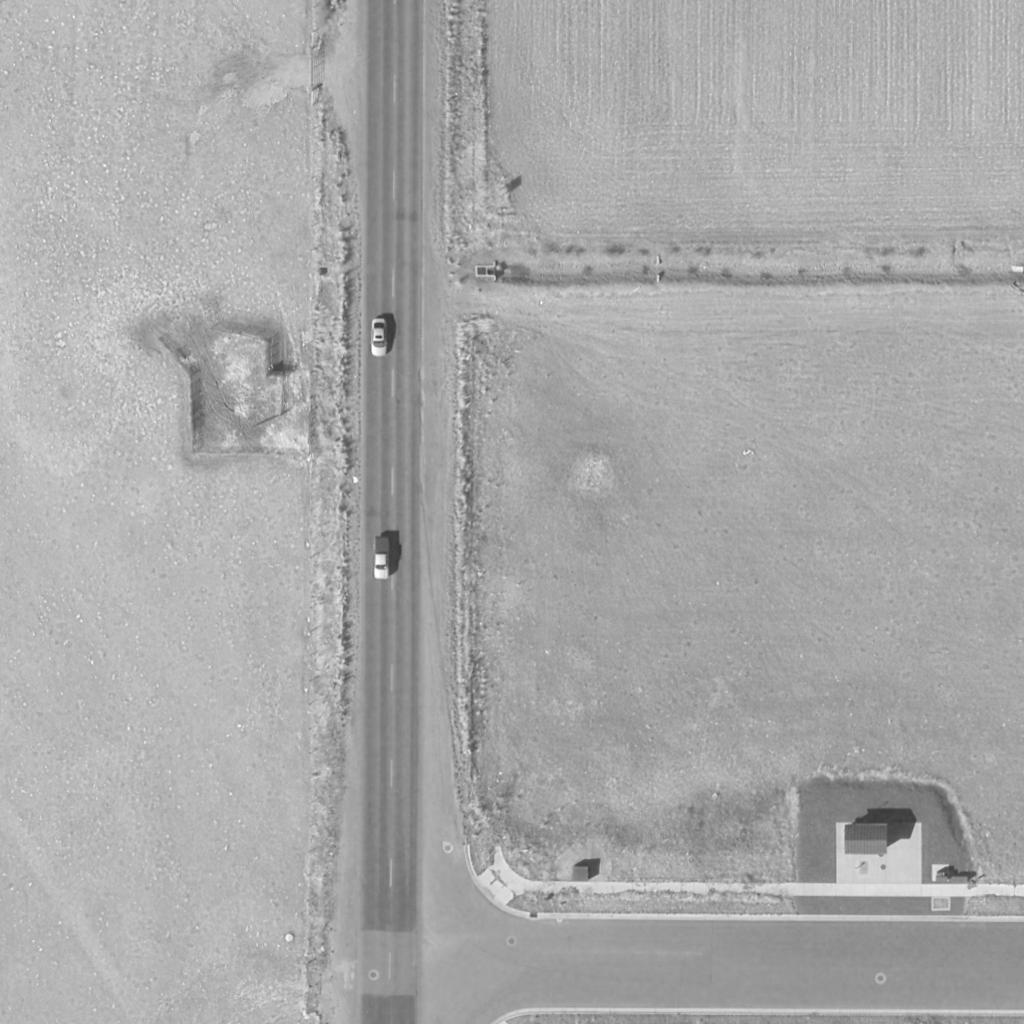vehicle: (373, 537, 393, 579), (370, 319, 388, 359)
